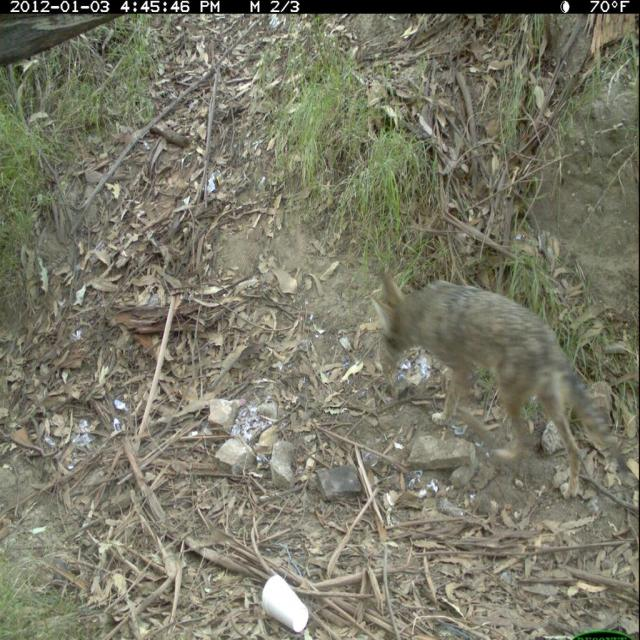coyote: (381, 274, 619, 512)
